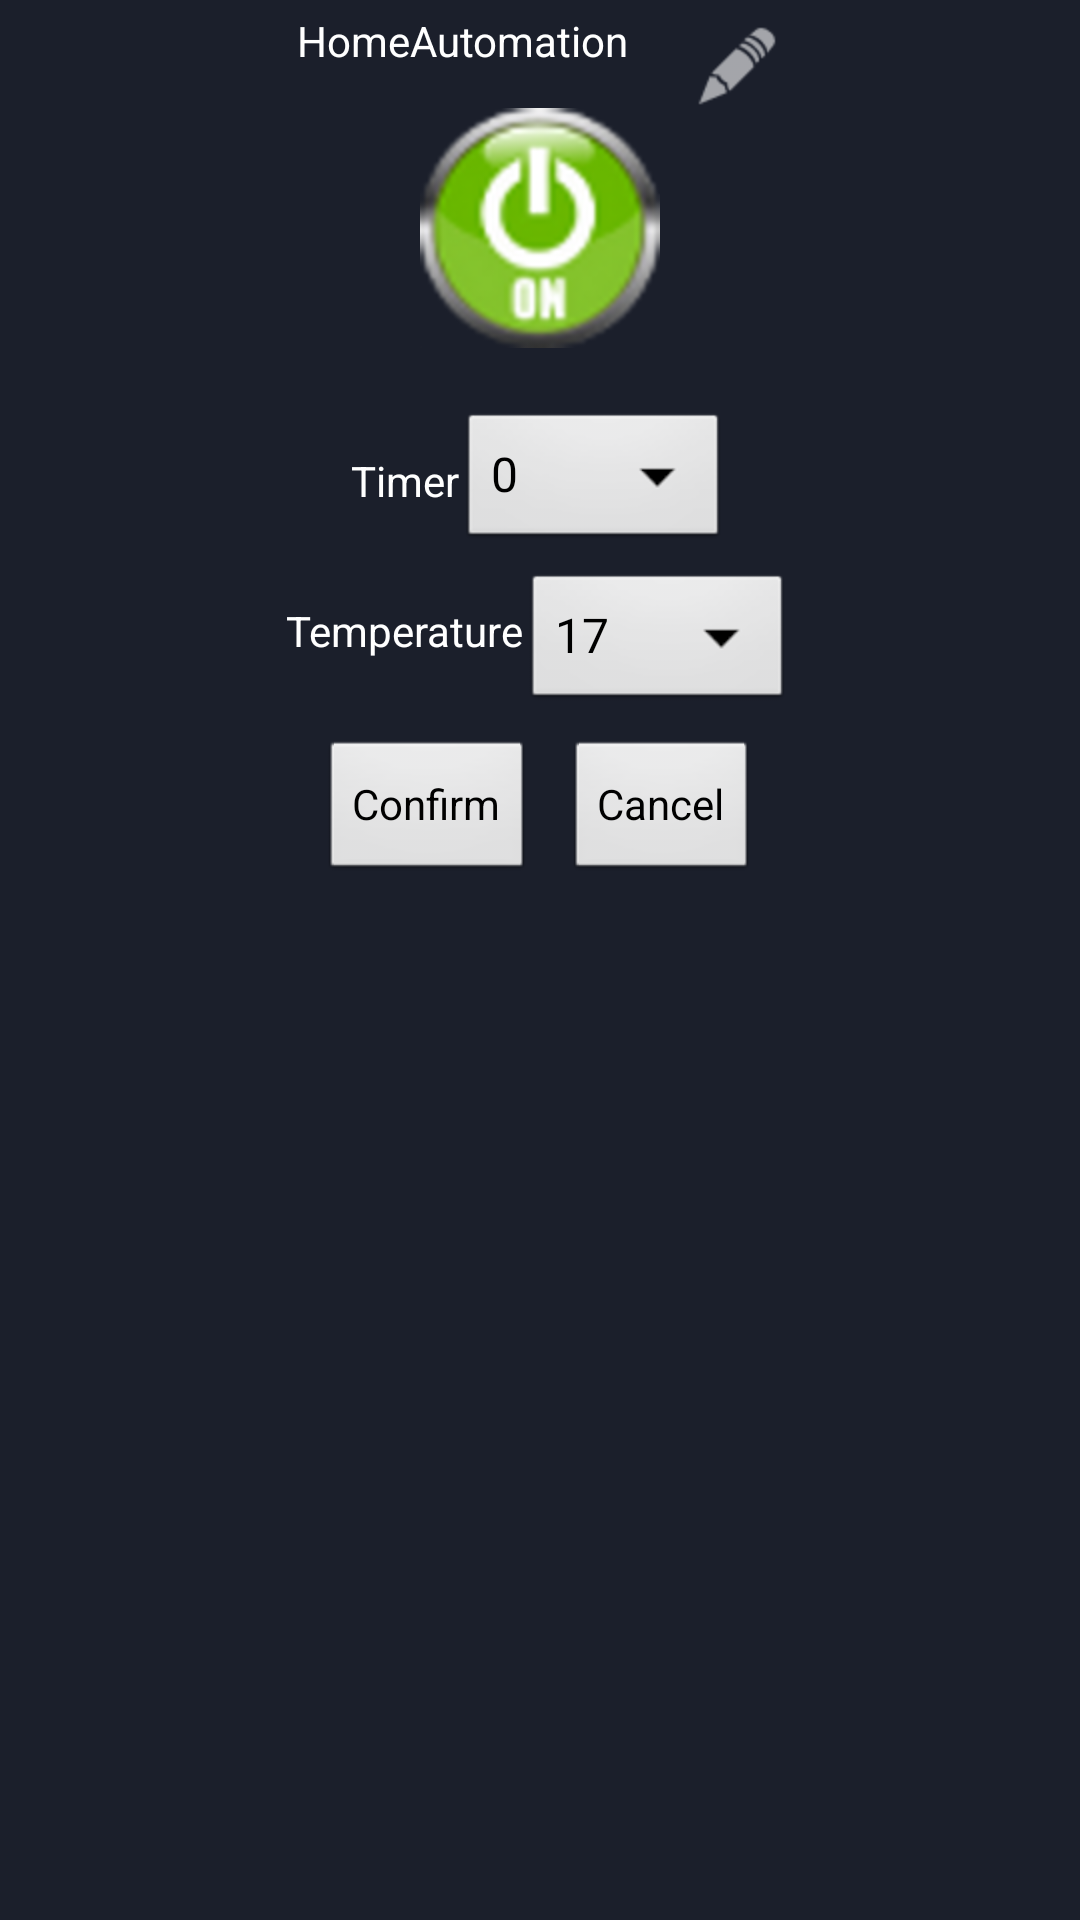

Icon bounding boxes for this 1080*1920 phone screenshot, format (left=x1, top=y1, right=x2, bottom=y2):
edit: (left=699, top=27, right=776, bottom=104)
Switch Power: (left=420, top=108, right=660, bottom=348)
